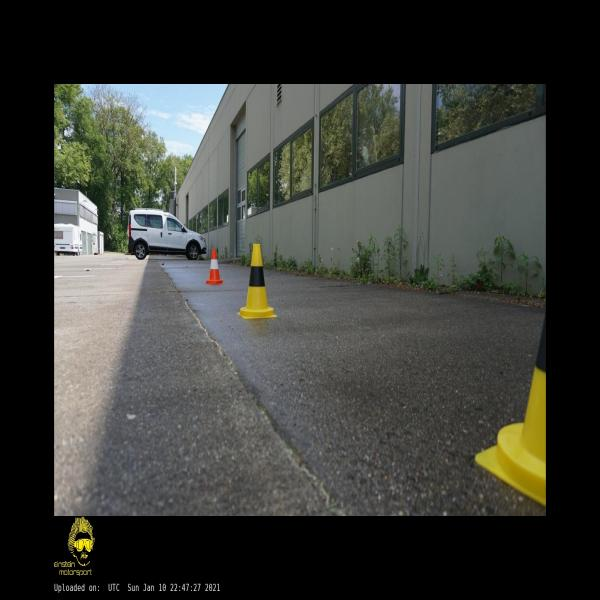orange_cone: (206, 248, 223, 284)
yellow_cone: (474, 309, 546, 508), (237, 244, 277, 319)
